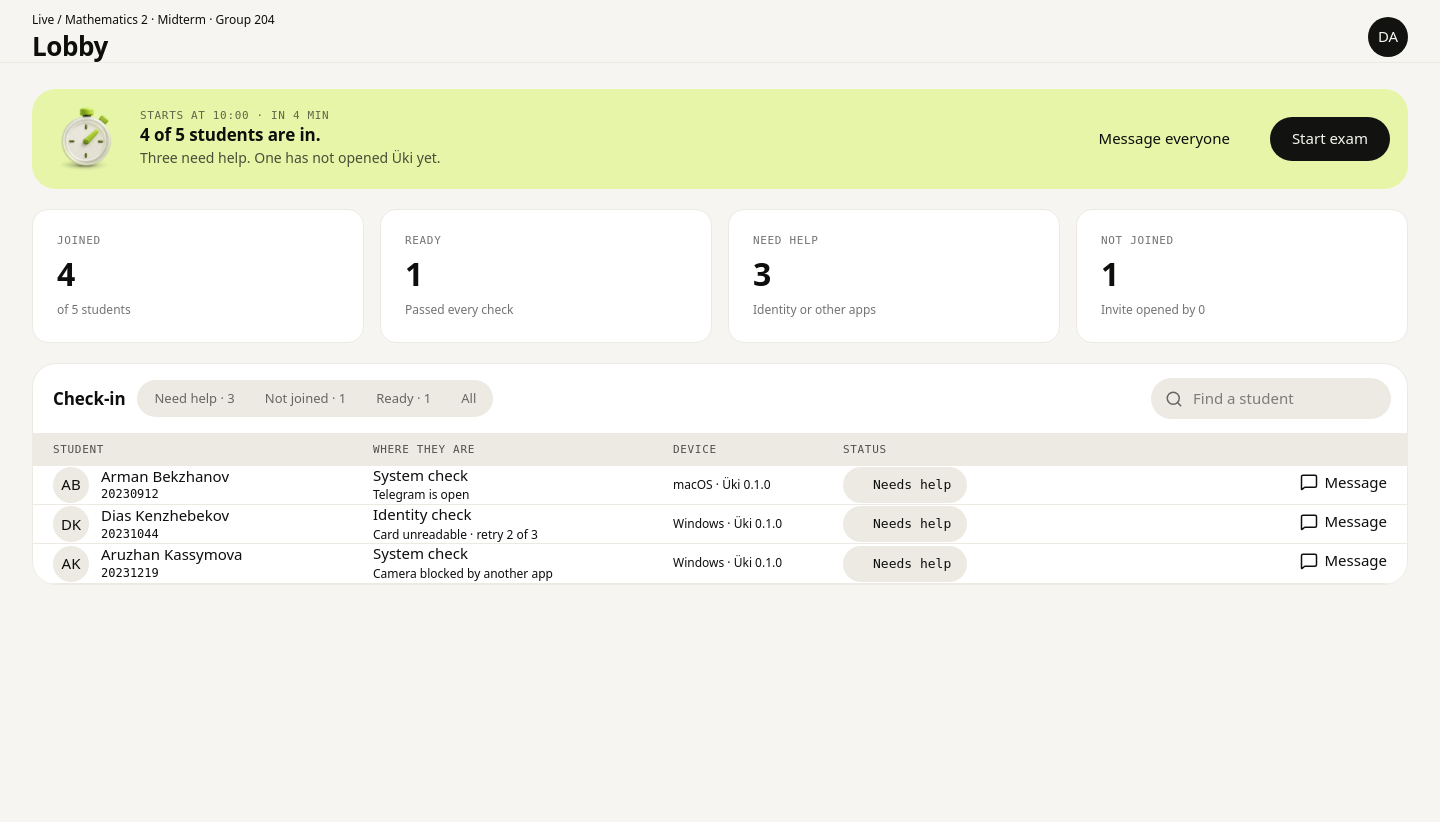
Test: 1.5 Lobby › starts the exam, and shows why when start_exam refuses
Step 1. Click the button "Start exam" → click(1330, 139), box left=1270, top=117, right=1390, bottom=161
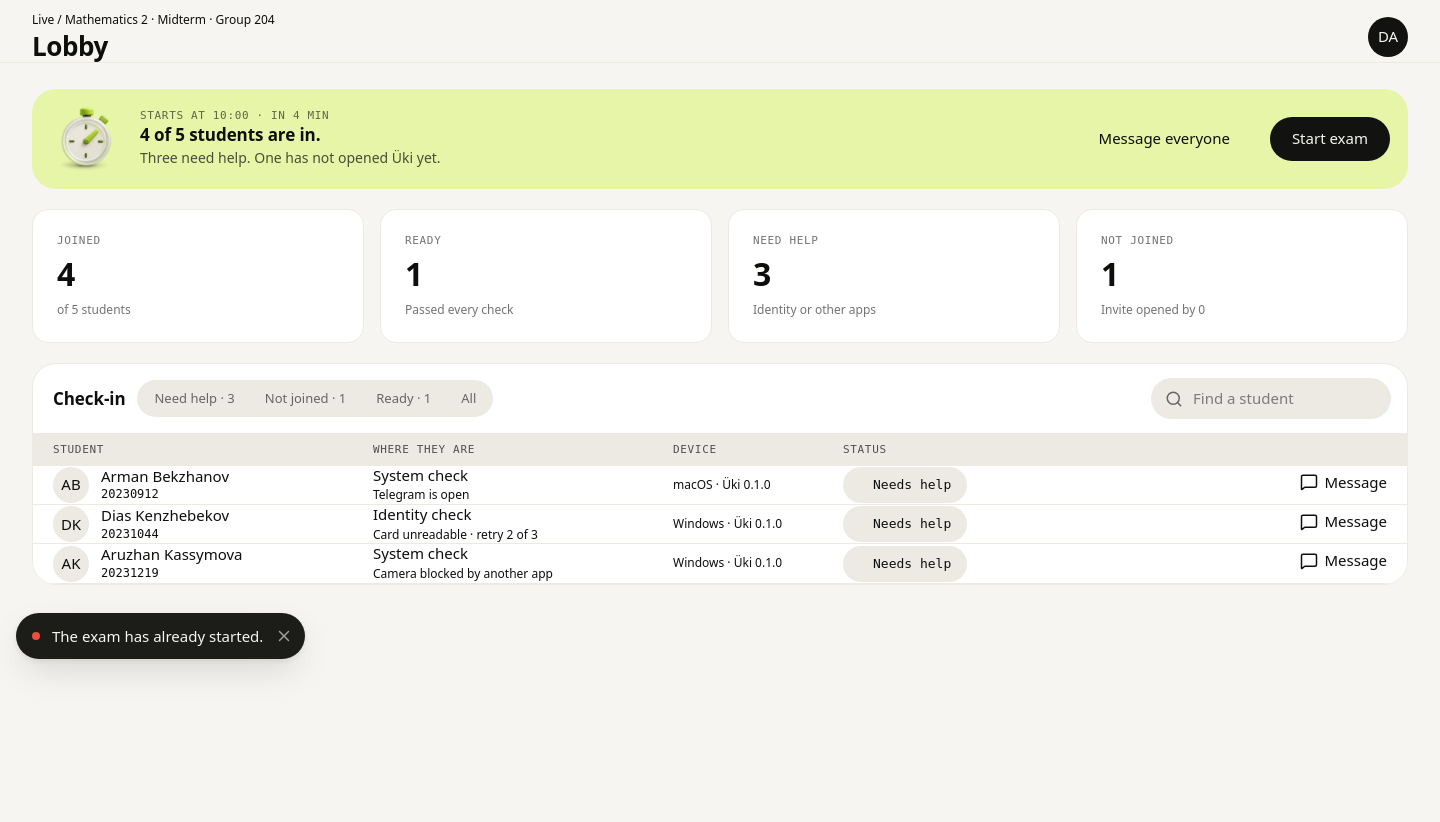
Now the text "The exam has already started." is shown, box left=52, top=625, right=263, bottom=647
